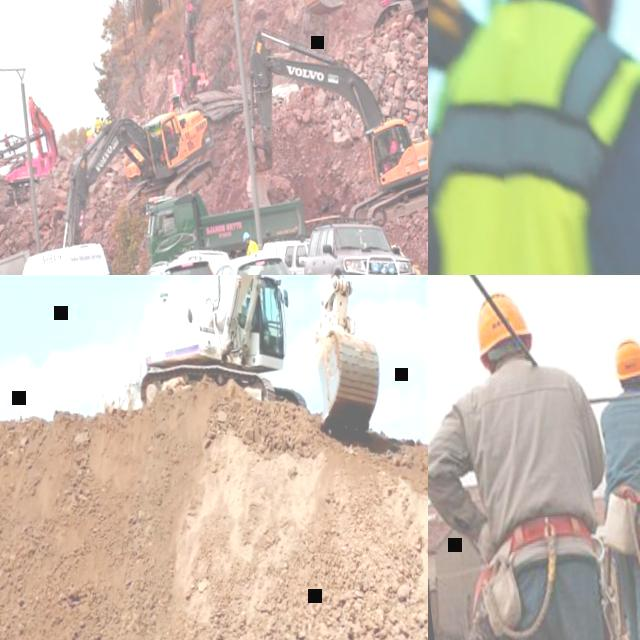helmet: (471, 289, 535, 367), (608, 334, 640, 380), (242, 233, 248, 242), (85, 124, 90, 129), (164, 125, 168, 131), (386, 136, 391, 140), (99, 114, 103, 119), (94, 114, 99, 118), (105, 114, 109, 118)
machinery: (114, 275, 387, 465), (228, 6, 428, 237), (47, 106, 235, 250), (140, 179, 308, 268), (0, 92, 62, 210), (150, 0, 212, 112), (90, 350, 146, 419)
no_mask: (244, 242, 250, 246)
no_vest: (463, 359, 598, 567), (600, 393, 640, 517)
person: (428, 281, 630, 640), (428, 0, 640, 275), (585, 331, 640, 640), (243, 294, 270, 352), (379, 134, 398, 171), (242, 232, 258, 256), (163, 124, 174, 142), (92, 114, 101, 132), (84, 124, 93, 138), (103, 113, 111, 125), (99, 114, 104, 125)
vehicle: (298, 215, 417, 275), (5, 241, 115, 275), (194, 249, 307, 275), (260, 237, 318, 275), (173, 246, 230, 275)
vest: (428, 0, 640, 275), (244, 241, 258, 257), (387, 141, 397, 154), (166, 126, 173, 142), (93, 119, 101, 132), (85, 129, 93, 137), (104, 118, 110, 124), (100, 120, 104, 126)
